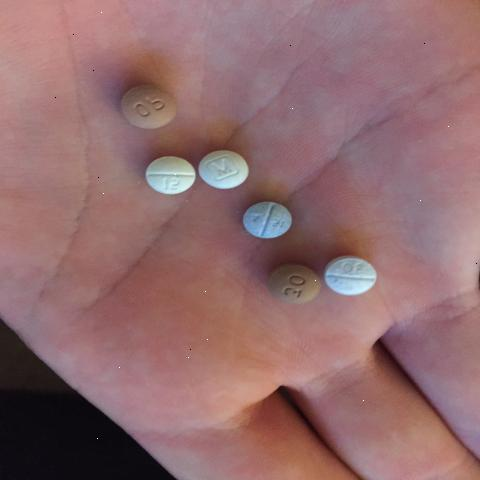Pill: (325, 241, 395, 310), (123, 152, 196, 208), (199, 147, 266, 198), (236, 202, 311, 243)
